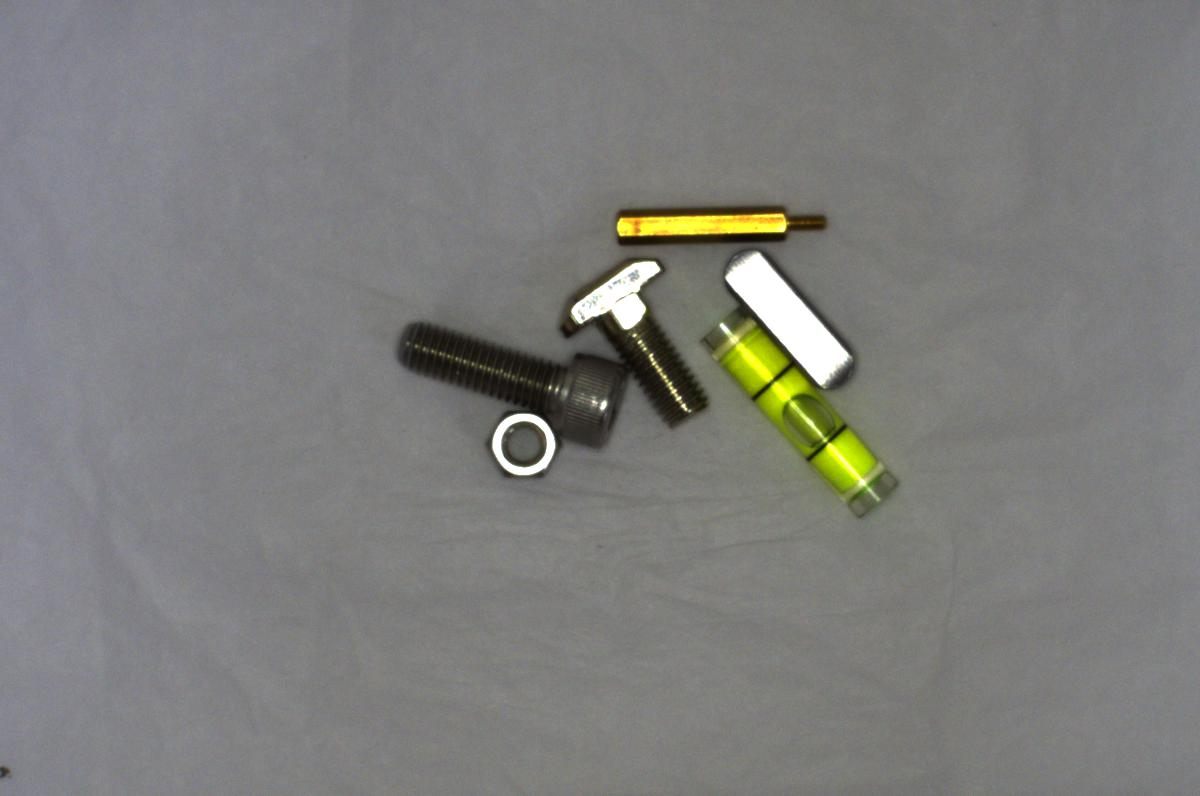Hexagon nut: (473, 403, 567, 485)
Hexagon pillar: (600, 190, 832, 253)
Hexagon screw: (378, 308, 641, 459)
Horizontal bubble: (696, 305, 914, 528)
Keybar: (711, 237, 865, 394)
T-shaped screw: (544, 248, 719, 439)
